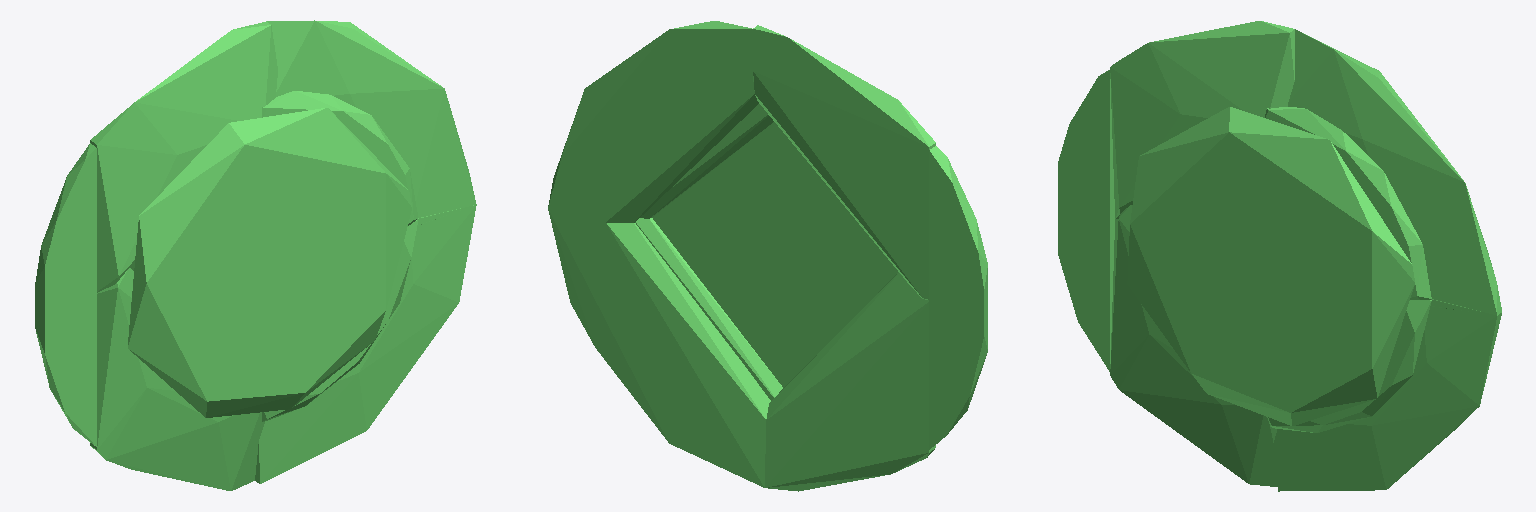
URDF robot description (root):
<robot name="root">
  <link name="link_plate_11in_decomp_convex_piece_0">
    <inertial>
      <origin rpy="0 0 0" xyz="0 0 0"/>
      <mass value="1.51E-02"/>
      <inertia ixx="2.63E-05" ixy="6.14E-06" ixz="-3.72E-07" iyy="2.47E-04" iyz="-1.77E-08" izz="2.17E-04"/>
    </inertial>
    <visual>
      <origin rpy="0 0 0" xyz="0 0 0"/>
      <geometry>
        <mesh filename="plate_11in_decomp_convex_piece_0.obj" scale="1.0000E+00 1.0000E+00 1.0000E+00"/>
      </geometry>
      <material name="">
        <color rgba="5.00E-01 9.00E-01 5.00E-01 1"/>
      </material>
    </visual>
    <collision>
      <origin rpy="0 0 0" xyz="0 0 0"/>
      <geometry>
        <mesh filename="plate_11in_decomp_convex_piece_0.obj" scale="1.0000E+00 1.0000E+00 1.0000E+00"/>
      </geometry>
    </collision>
  </link>
  <link name="link_plate_11in_decomp_convex_piece_1">
    <inertial>
      <origin rpy="0 0 0" xyz="0 0 0"/>
      <mass value="9.12E-02"/>
      <inertia ixx="1.90E-04" ixy="1.02E-07" ixz="-1.10E-06" iyy="3.28E-04" iyz="2.42E-06" izz="1.85E-04"/>
    </inertial>
    <visual>
      <origin rpy="0 0 0" xyz="0 0 0"/>
      <geometry>
        <mesh filename="plate_11in_decomp_convex_piece_1.obj" scale="1.0000E+00 1.0000E+00 1.0000E+00"/>
      </geometry>
      <material name="">
        <color rgba="5.00E-01 9.00E-01 5.00E-01 1"/>
      </material>
    </visual>
    <collision>
      <origin rpy="0 0 0" xyz="0 0 0"/>
      <geometry>
        <mesh filename="plate_11in_decomp_convex_piece_1.obj" scale="1.0000E+00 1.0000E+00 1.0000E+00"/>
      </geometry>
    </collision>
  </link>
  <joint name="link_plate_11in_decomp_convex_piece_1_joint" type="fixed">
    <origin rpy="0 0 0" xyz="0 0 0"/>
    <parent link="link_plate_11in_decomp_convex_piece_0"/>
    <child link="link_plate_11in_decomp_convex_piece_1"/>
  </joint>
  <link name="link_plate_11in_decomp_convex_piece_2">
    <inertial>
      <origin rpy="0 0 0" xyz="0 0 0"/>
      <mass value="4.40E-02"/>
      <inertia ixx="2.65E-04" ixy="1.69E-05" ixz="1.59E-04" iyy="4.51E-04" iyz="1.88E-05" izz="1.81E-04"/>
    </inertial>
    <visual>
      <origin rpy="0 0 0" xyz="0 0 0"/>
      <geometry>
        <mesh filename="plate_11in_decomp_convex_piece_2.obj" scale="1.0000E+00 1.0000E+00 1.0000E+00"/>
      </geometry>
      <material name="">
        <color rgba="5.00E-01 9.00E-01 5.00E-01 1"/>
      </material>
    </visual>
    <collision>
      <origin rpy="0 0 0" xyz="0 0 0"/>
      <geometry>
        <mesh filename="plate_11in_decomp_convex_piece_2.obj" scale="1.0000E+00 1.0000E+00 1.0000E+00"/>
      </geometry>
    </collision>
  </link>
  <joint name="link_plate_11in_decomp_convex_piece_2_joint" type="fixed">
    <origin rpy="0 0 0" xyz="0 0 0"/>
    <parent link="link_plate_11in_decomp_convex_piece_1"/>
    <child link="link_plate_11in_decomp_convex_piece_2"/>
  </joint>
  <link name="link_plate_11in_decomp_convex_piece_3">
    <inertial>
      <origin rpy="0 0 0" xyz="0 0 0"/>
      <mass value="3.26E-02"/>
      <inertia ixx="1.76E-04" ixy="-9.01E-06" ixz="1.27E-04" iyy="3.84E-04" iyz="-8.06E-06" izz="2.02E-04"/>
    </inertial>
    <visual>
      <origin rpy="0 0 0" xyz="0 0 0"/>
      <geometry>
        <mesh filename="plate_11in_decomp_convex_piece_3.obj" scale="1.0000E+00 1.0000E+00 1.0000E+00"/>
      </geometry>
      <material name="">
        <color rgba="5.00E-01 9.00E-01 5.00E-01 1"/>
      </material>
    </visual>
    <collision>
      <origin rpy="0 0 0" xyz="0 0 0"/>
      <geometry>
        <mesh filename="plate_11in_decomp_convex_piece_3.obj" scale="1.0000E+00 1.0000E+00 1.0000E+00"/>
      </geometry>
    </collision>
  </link>
  <joint name="link_plate_11in_decomp_convex_piece_3_joint" type="fixed">
    <origin rpy="0 0 0" xyz="0 0 0"/>
    <parent link="link_plate_11in_decomp_convex_piece_2"/>
    <child link="link_plate_11in_decomp_convex_piece_3"/>
  </joint>
  <link name="link_plate_11in_decomp_convex_piece_4">
    <inertial>
      <origin rpy="0 0 0" xyz="0 0 0"/>
      <mass value="4.41E-02"/>
      <inertia ixx="2.94E-04" ixy="1.43E-05" ixz="-1.57E-04" iyy="4.67E-04" iyz="-1.88E-05" izz="1.68E-04"/>
    </inertial>
    <visual>
      <origin rpy="0 0 0" xyz="0 0 0"/>
      <geometry>
        <mesh filename="plate_11in_decomp_convex_piece_4.obj" scale="1.0000E+00 1.0000E+00 1.0000E+00"/>
      </geometry>
      <material name="">
        <color rgba="5.00E-01 9.00E-01 5.00E-01 1"/>
      </material>
    </visual>
    <collision>
      <origin rpy="0 0 0" xyz="0 0 0"/>
      <geometry>
        <mesh filename="plate_11in_decomp_convex_piece_4.obj" scale="1.0000E+00 1.0000E+00 1.0000E+00"/>
      </geometry>
    </collision>
  </link>
  <joint name="link_plate_11in_decomp_convex_piece_4_joint" type="fixed">
    <origin rpy="0 0 0" xyz="0 0 0"/>
    <parent link="link_plate_11in_decomp_convex_piece_3"/>
    <child link="link_plate_11in_decomp_convex_piece_4"/>
  </joint>
  <link name="link_plate_11in_decomp_convex_piece_5">
    <inertial>
      <origin rpy="0 0 0" xyz="0 0 0"/>
      <mass value="3.63E-02"/>
      <inertia ixx="2.09E-04" ixy="-9.84E-06" ixz="-1.39E-04" iyy="4.29E-04" iyz="9.51E-06" izz="2.14E-04"/>
    </inertial>
    <visual>
      <origin rpy="0 0 0" xyz="0 0 0"/>
      <geometry>
        <mesh filename="plate_11in_decomp_convex_piece_5.obj" scale="1.0000E+00 1.0000E+00 1.0000E+00"/>
      </geometry>
      <material name="">
        <color rgba="5.00E-01 9.00E-01 5.00E-01 1"/>
      </material>
    </visual>
    <collision>
      <origin rpy="0 0 0" xyz="0 0 0"/>
      <geometry>
        <mesh filename="plate_11in_decomp_convex_piece_5.obj" scale="1.0000E+00 1.0000E+00 1.0000E+00"/>
      </geometry>
    </collision>
  </link>
  <joint name="link_plate_11in_decomp_convex_piece_5_joint" type="fixed">
    <origin rpy="0 0 0" xyz="0 0 0"/>
    <parent link="link_plate_11in_decomp_convex_piece_4"/>
    <child link="link_plate_11in_decomp_convex_piece_5"/>
  </joint>
  <link name="link_plate_11in_decomp_convex_piece_6">
    <inertial>
      <origin rpy="0 0 0" xyz="0 0 0"/>
      <mass value="9.45E-03"/>
      <inertia ixx="3.33E-05" ixy="-5.77E-06" ixz="-2.17E-05" iyy="6.48E-05" iyz="5.88E-06" izz="3.21E-05"/>
    </inertial>
    <visual>
      <origin rpy="0 0 0" xyz="0 0 0"/>
      <geometry>
        <mesh filename="plate_11in_decomp_convex_piece_6.obj" scale="1.0000E+00 1.0000E+00 1.0000E+00"/>
      </geometry>
      <material name="">
        <color rgba="5.00E-01 9.00E-01 5.00E-01 1"/>
      </material>
    </visual>
    <collision>
      <origin rpy="0 0 0" xyz="0 0 0"/>
      <geometry>
        <mesh filename="plate_11in_decomp_convex_piece_6.obj" scale="1.0000E+00 1.0000E+00 1.0000E+00"/>
      </geometry>
    </collision>
  </link>
  <joint name="link_plate_11in_decomp_convex_piece_6_joint" type="fixed">
    <origin rpy="0 0 0" xyz="0 0 0"/>
    <parent link="link_plate_11in_decomp_convex_piece_5"/>
    <child link="link_plate_11in_decomp_convex_piece_6"/>
  </joint>
  <link name="link_plate_11in_decomp_convex_piece_7">
    <inertial>
      <origin rpy="0 0 0" xyz="0 0 0"/>
      <mass value="9.27E-03"/>
      <inertia ixx="3.26E-05" ixy="-5.70E-06" ixz="2.15E-05" iyy="6.40E-05" iyz="-5.79E-06" izz="3.19E-05"/>
    </inertial>
    <visual>
      <origin rpy="0 0 0" xyz="0 0 0"/>
      <geometry>
        <mesh filename="plate_11in_decomp_convex_piece_7.obj" scale="1.0000E+00 1.0000E+00 1.0000E+00"/>
      </geometry>
      <material name="">
        <color rgba="5.00E-01 9.00E-01 5.00E-01 1"/>
      </material>
    </visual>
    <collision>
      <origin rpy="0 0 0" xyz="0 0 0"/>
      <geometry>
        <mesh filename="plate_11in_decomp_convex_piece_7.obj" scale="1.0000E+00 1.0000E+00 1.0000E+00"/>
      </geometry>
    </collision>
  </link>
  <joint name="link_plate_11in_decomp_convex_piece_7_joint" type="fixed">
    <origin rpy="0 0 0" xyz="0 0 0"/>
    <parent link="link_plate_11in_decomp_convex_piece_6"/>
    <child link="link_plate_11in_decomp_convex_piece_7"/>
  </joint>
</robot>

--- Facts derived from the render (not from the file) ---
Views: 3 orthographic renders of the robot side by side, from view 1: azimuth 30°, elevation 25°; view 2: azimuth 150°, elevation 25°; view 3: azimuth 330°, elevation 25°.
Model root with 8 links and 7 joints (7 fixed), rooted at link_plate_11in_decomp_convex_piece_0, posed all joints at 0.
Links seen in each view (by area): view 1: link_plate_11in_decomp_convex_piece_1, link_plate_11in_decomp_convex_piece_4, link_plate_11in_decomp_convex_piece_3, link_plate_11in_decomp_convex_piece_5, link_plate_11in_decomp_convex_piece_2, link_plate_11in_decomp_convex_piece_0, link_plate_11in_decomp_convex_piece_7, link_plate_11in_decomp_convex_piece_6; view 2: link_plate_11in_decomp_convex_piece_1, link_plate_11in_decomp_convex_piece_5, link_plate_11in_decomp_convex_piece_3, link_plate_11in_decomp_convex_piece_2, link_plate_11in_decomp_convex_piece_4, link_plate_11in_decomp_convex_piece_0, link_plate_11in_decomp_convex_piece_6, link_plate_11in_decomp_convex_piece_7; view 3: link_plate_11in_decomp_convex_piece_1, link_plate_11in_decomp_convex_piece_3, link_plate_11in_decomp_convex_piece_5, link_plate_11in_decomp_convex_piece_4, link_plate_11in_decomp_convex_piece_2, link_plate_11in_decomp_convex_piece_0, link_plate_11in_decomp_convex_piece_7, link_plate_11in_decomp_convex_piece_6.
Link boxes in pixels (x1,y1,x2,y2): link_plate_11in_decomp_convex_piece_1: [128, 108, 411, 417]; link_plate_11in_decomp_convex_piece_4: [90, 21, 277, 292]; link_plate_11in_decomp_convex_piece_3: [267, 20, 476, 225]; link_plate_11in_decomp_convex_piece_5: [255, 205, 476, 483]; link_plate_11in_decomp_convex_piece_2: [90, 268, 264, 490]; link_plate_11in_decomp_convex_piece_0: [35, 143, 96, 446]; link_plate_11in_decomp_convex_piece_7: [262, 91, 417, 225]; link_plate_11in_decomp_convex_piece_6: [262, 220, 417, 421]; link_plate_11in_decomp_convex_piece_1: [652, 122, 897, 387]; link_plate_11in_decomp_convex_piece_5: [548, 209, 770, 487]; link_plate_11in_decomp_convex_piece_3: [548, 21, 758, 222]; link_plate_11in_decomp_convex_piece_2: [765, 272, 935, 491]; link_plate_11in_decomp_convex_piece_4: [753, 25, 935, 299]; link_plate_11in_decomp_convex_piece_0: [929, 146, 987, 449]; link_plate_11in_decomp_convex_piece_6: [635, 218, 782, 400]; link_plate_11in_decomp_convex_piece_7: [640, 104, 773, 218]; link_plate_11in_decomp_convex_piece_1: [1127, 107, 1414, 425]; link_plate_11in_decomp_convex_piece_3: [1288, 29, 1501, 315]; link_plate_11in_decomp_convex_piece_5: [1273, 299, 1501, 491]; link_plate_11in_decomp_convex_piece_4: [1110, 21, 1294, 218]; link_plate_11in_decomp_convex_piece_2: [1110, 205, 1277, 486]; link_plate_11in_decomp_convex_piece_0: [1058, 70, 1114, 371]; link_plate_11in_decomp_convex_piece_7: [1265, 107, 1431, 299]; link_plate_11in_decomp_convex_piece_6: [1267, 300, 1431, 432].
Bounding box of the posed robot: 0.2815 × 0.0242 × 0.2815 m (x, y, z).
8 mesh visuals loaded from 8 distinct referenced files (8 OBJ).